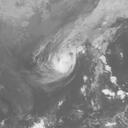cyclone: (31, 41, 75, 82)
